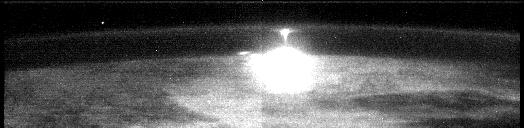positive: (271, 25, 298, 46)
